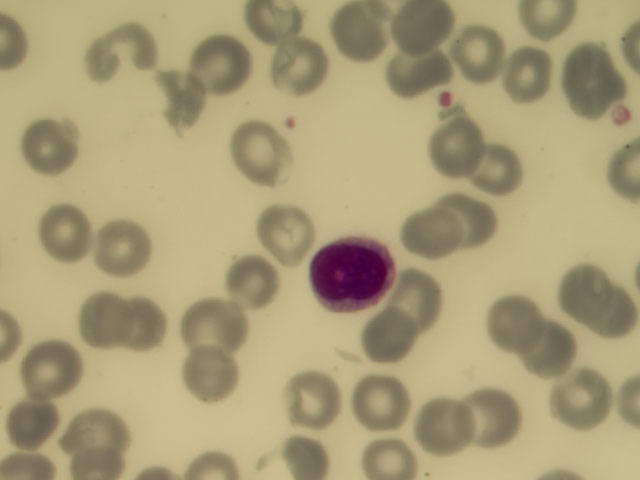Platelets: (607, 101, 635, 131), (281, 112, 301, 136), (440, 89, 454, 105)
RBC: (20, 120, 79, 175), (34, 205, 93, 260), (93, 219, 152, 274), (71, 301, 130, 356), (107, 302, 166, 357), (23, 338, 82, 393), (8, 394, 67, 449), (64, 404, 123, 459), (189, 348, 248, 403), (181, 301, 240, 356), (230, 251, 289, 306), (259, 204, 318, 259), (225, 118, 284, 173), (195, 36, 254, 91), (153, 74, 212, 129), (97, 25, 156, 80), (256, 38, 315, 93), (321, 8, 380, 63), (386, 42, 445, 97), (392, 3, 451, 58), (448, 23, 507, 78), (497, 47, 556, 102), (425, 120, 484, 175), (475, 142, 534, 197), (440, 194, 499, 249), (406, 209, 465, 264), (397, 264, 456, 319), (351, 304, 410, 359), (478, 298, 537, 353), (530, 325, 589, 380), (548, 269, 607, 324), (581, 290, 640, 345), (553, 374, 612, 429), (466, 391, 525, 446), (410, 394, 469, 449), (353, 375, 412, 430), (288, 371, 347, 426), (362, 425, 421, 480), (278, 425, 337, 480), (566, 50, 625, 105)
WBC: (314, 236, 394, 309)
